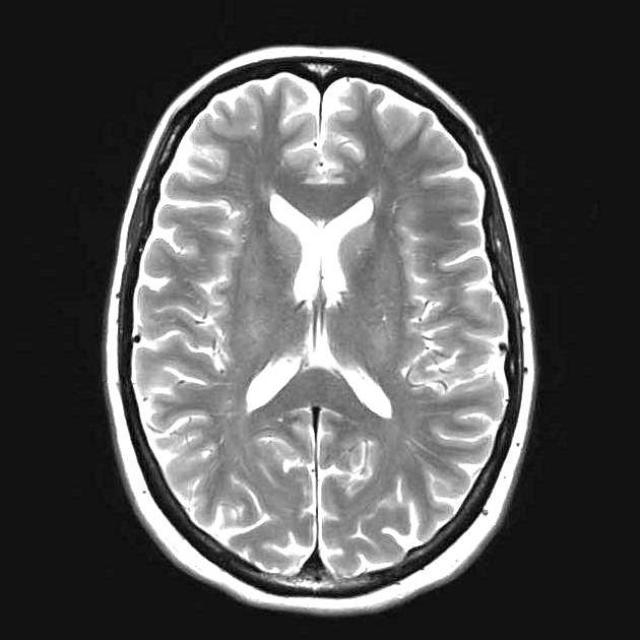notumor: (104, 48, 536, 623)
